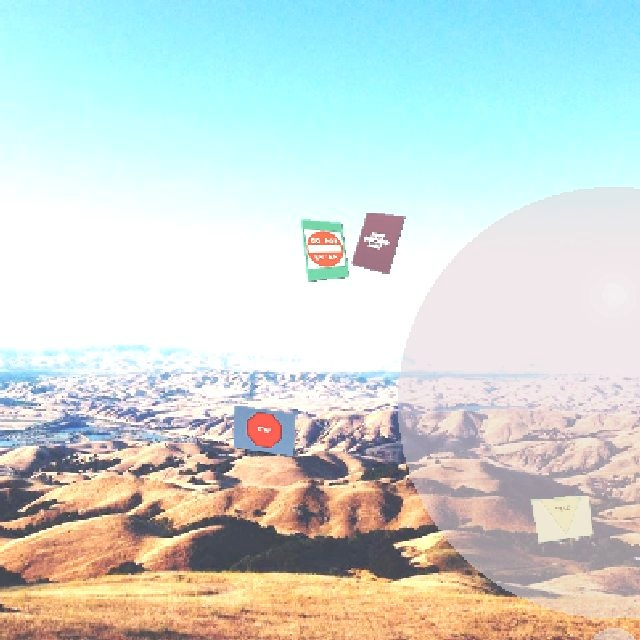DO_NOT_ENTER: (303, 228, 345, 269)
DO_NOT_GO_AROUND: (359, 228, 391, 250)
STOP: (245, 409, 280, 447)
YIELD: (537, 495, 587, 536)
